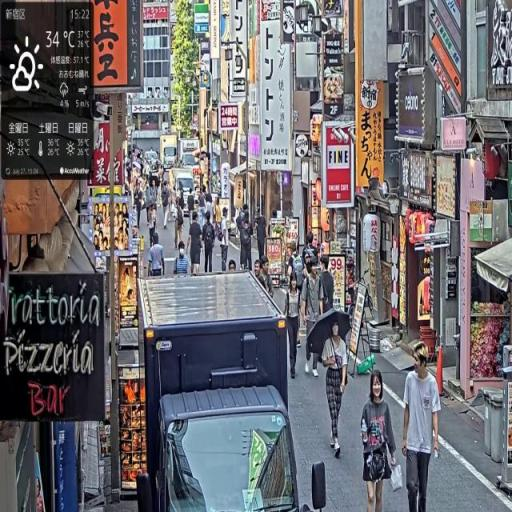person: (137, 278, 296, 512), (403, 340, 443, 512), (361, 368, 400, 512), (319, 320, 351, 460), (303, 257, 326, 380), (285, 267, 304, 380), (189, 211, 204, 276), (202, 211, 217, 276), (147, 235, 166, 279), (256, 208, 268, 267), (173, 242, 191, 275)
